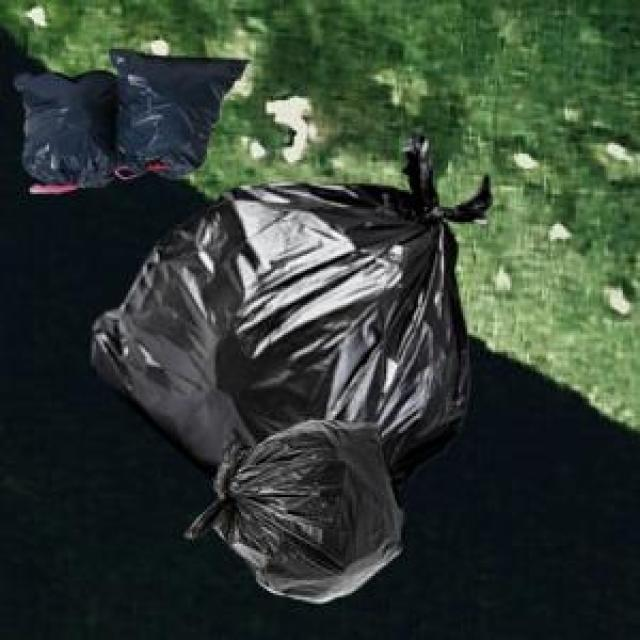waste: (92, 136, 490, 602), (18, 50, 245, 193)
